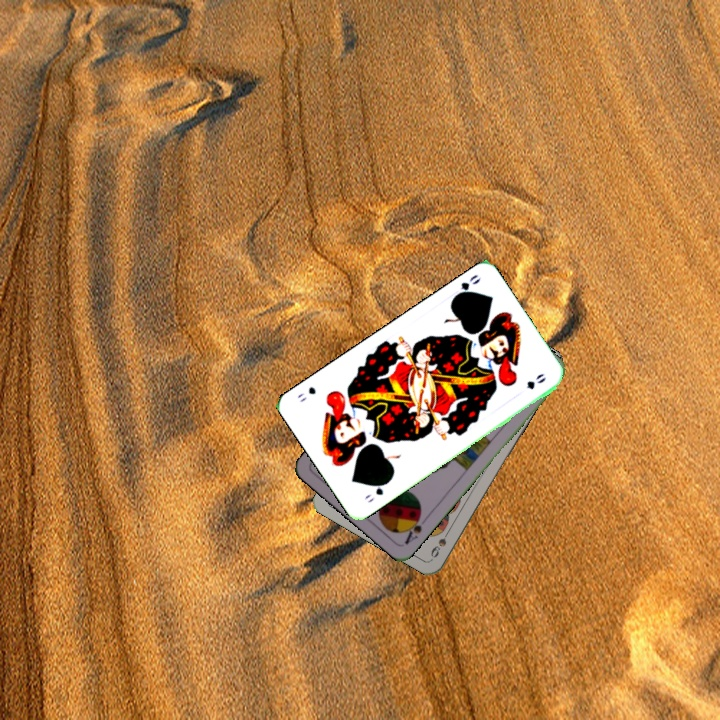GO: (449, 270, 483, 302), (361, 477, 392, 506)
S9: (427, 524, 453, 560)
SA: (400, 509, 424, 547)
